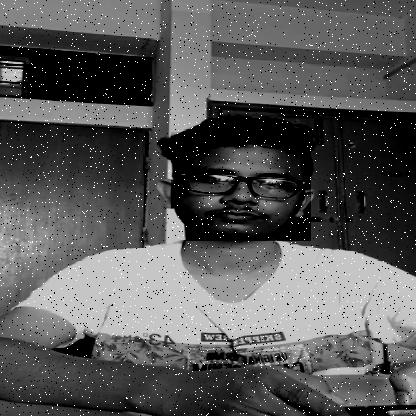Normal: (171, 132, 311, 241)
